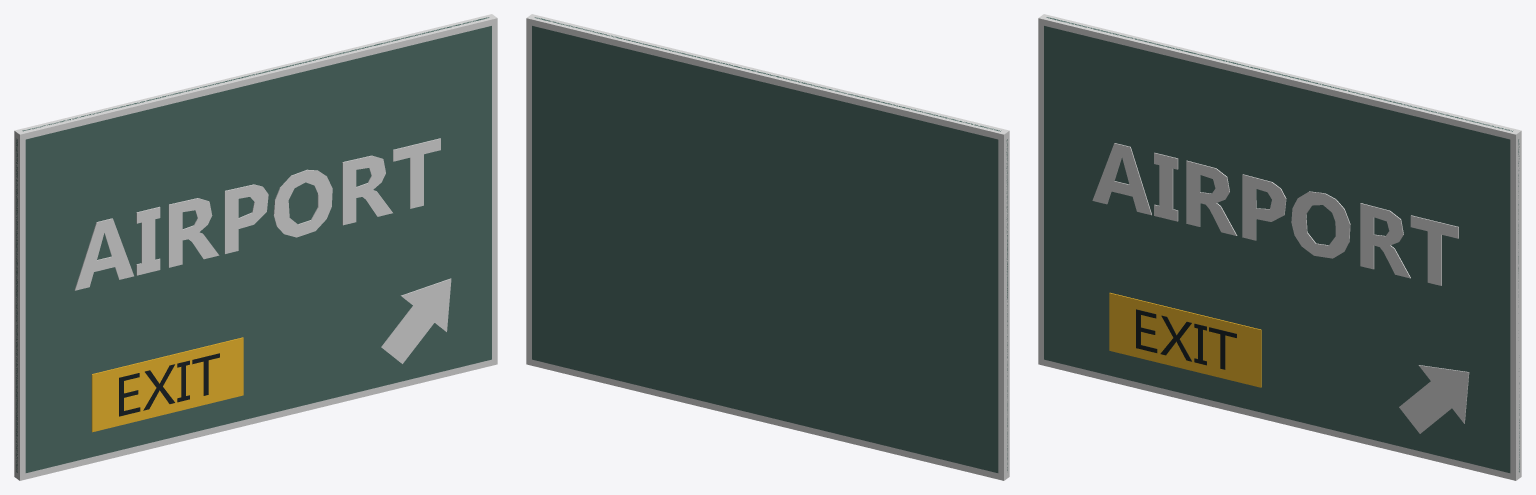
The model's file is SM_FloorProps_RoadSign_27.fbx.
3 renders of one model, left to right at view 1: azimuth 30°, elevation 25°; view 2: azimuth 150°, elevation 25°; view 3: azimuth 330°, elevation 25°, orthographic.
Visible parts, largest first — view 1: SM_FloorProps_RoadSign_27; view 2: SM_FloorProps_RoadSign_27; view 3: SM_FloorProps_RoadSign_27.
Boxes of the visible parts, x1=… form: SM_FloorProps_RoadSign_27: x1=14, y1=14, x2=497, y2=480; SM_FloorProps_RoadSign_27: x1=526, y1=14, x2=1009, y2=480; SM_FloorProps_RoadSign_27: x1=1038, y1=14, x2=1521, y2=480.
Bounding box in the file's own units: 2.33 × 1.61 × 0.0552.
